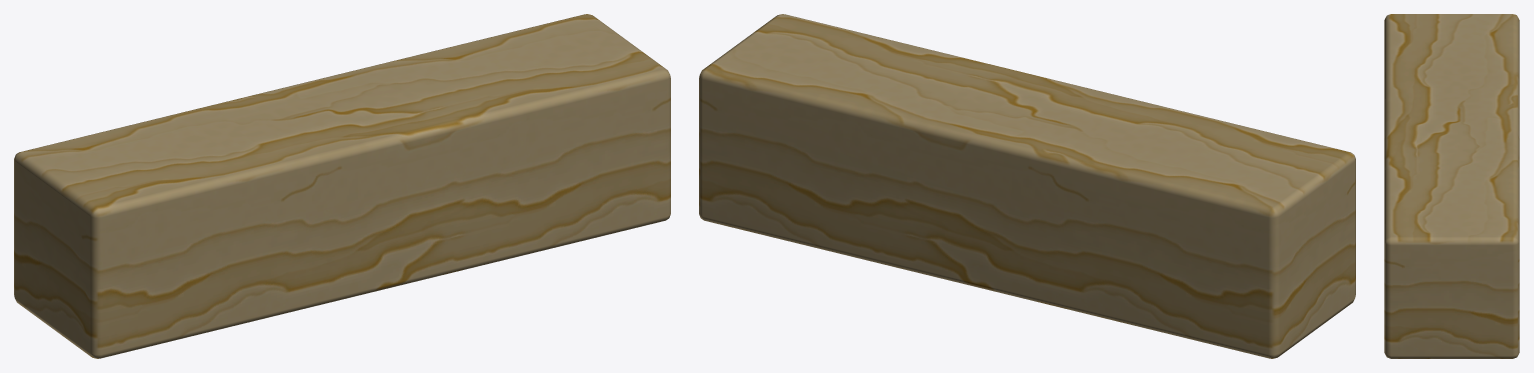
Rendered from SM_Platform_1m_03_B.glb.
3 views of the same model, side by side, from view 1: azimuth 30°, elevation 25°; view 2: azimuth 150°, elevation 25°; view 3: azimuth 270°, elevation 25° (orthographic). The views are drawn at different scales.
Parts seen in each view (by area): view 1: SM_Platform_1m_03_B; view 2: SM_Platform_1m_03_B; view 3: SM_Platform_1m_03_B.
Boxes of the visible parts, bbox=[...] form: SM_Platform_1m_03_B: bbox=[14, 14, 670, 358]; SM_Platform_1m_03_B: bbox=[699, 14, 1355, 358]; SM_Platform_1m_03_B: bbox=[1384, 14, 1519, 358].
Bounding box in the file's own units: 4 × 1 × 1.
1 material, 1 textured.
